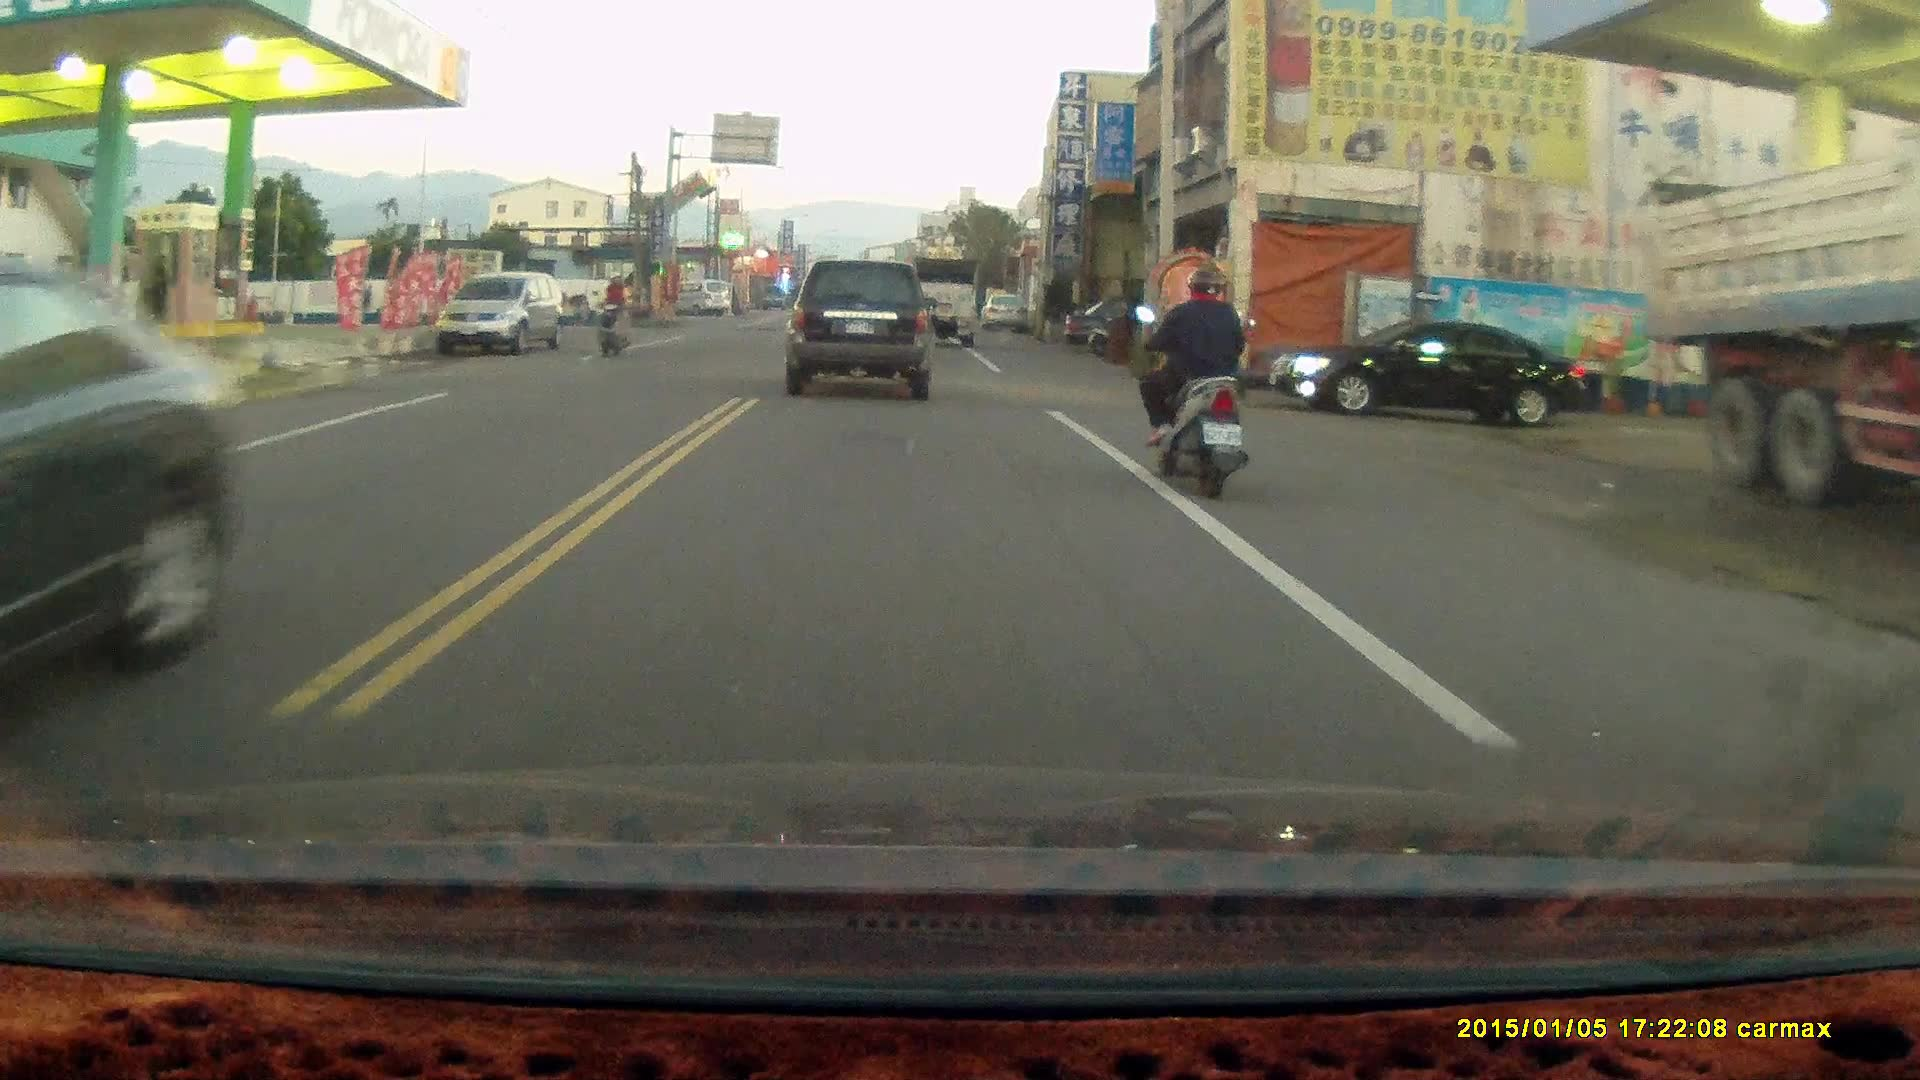rider: (1131, 269, 1246, 500), (587, 269, 628, 360)
vehicle: (1, 257, 241, 742), (1647, 127, 1920, 503), (1264, 322, 1601, 426), (790, 260, 937, 401), (437, 271, 563, 363), (900, 255, 979, 348)
